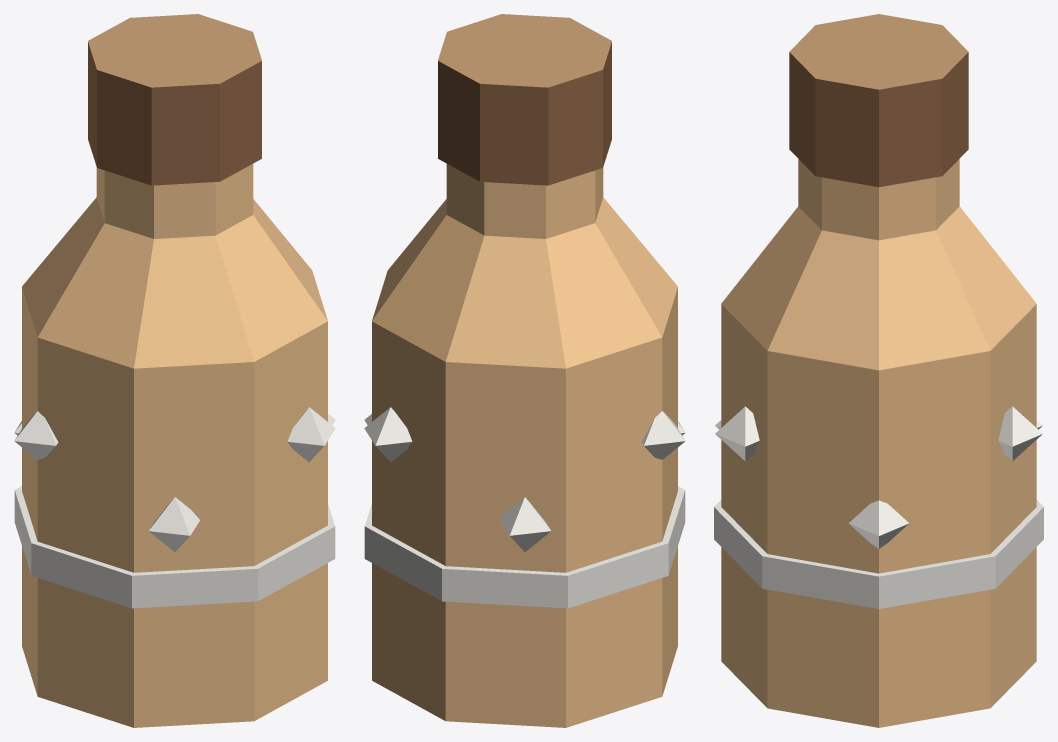
Rendered from deco_fx_petals.obj.
3 renders of one model, left to right at view 1: azimuth 30°, elevation 25°; view 2: azimuth 150°, elevation 25°; view 3: azimuth 270°, elevation 25°, orthographic.
Parts seen in each view (by area): view 1: deco_fx_petals; view 2: deco_fx_petals; view 3: deco_fx_petals.
Part boxes in pixels (x1,y1,x2,y2): deco_fx_petals: (14,14,335,727); deco_fx_petals: (364,14,685,727); deco_fx_petals: (714,14,1043,727).
Bounding box in the file's own units: 0.0206 × 0.0375 × 0.0184.
1 material, 1 textured.
